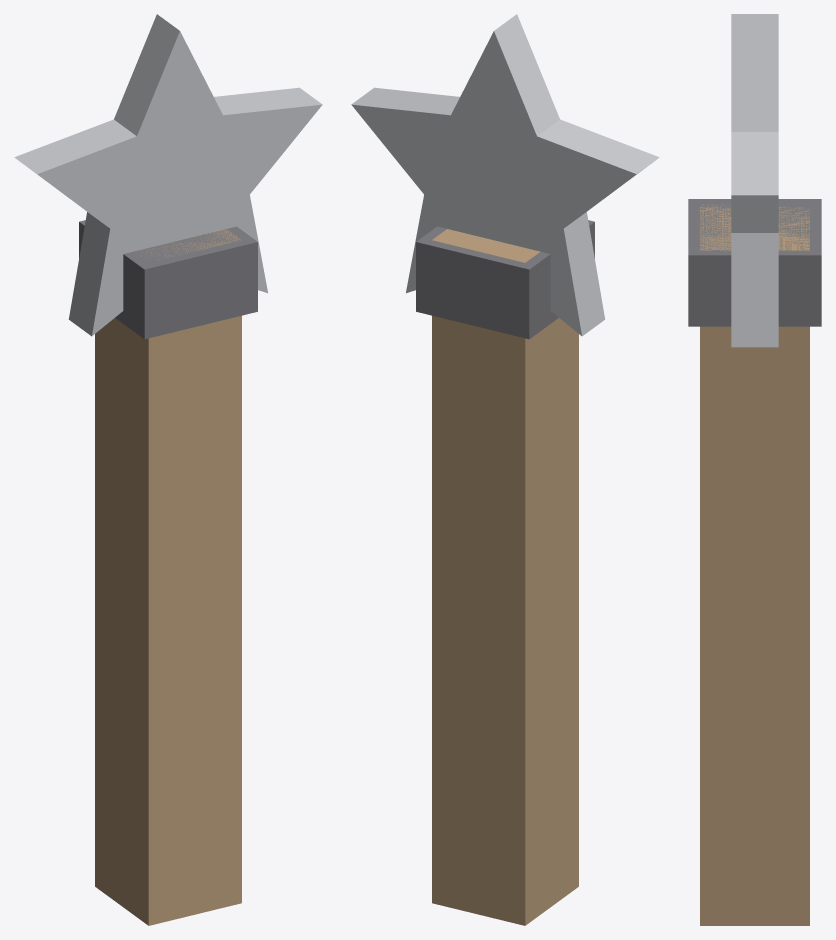
File: prop-dresser-star-gs1.fbx
The picture shows the model from 3 angles, left to right: view 1: azimuth 30°, elevation 25°; view 2: azimuth 150°, elevation 25°; view 3: azimuth 270°, elevation 25°; orthographic projection.
Visible parts, largest first — view 1: prop-dresser-star-gs1; view 2: prop-dresser-star-gs1; view 3: prop-dresser-star-gs1.
Boxes of the visible parts, x1,y1,x2,y2 form: prop-dresser-star-gs1: [14, 14, 322, 925]; prop-dresser-star-gs1: [351, 14, 659, 925]; prop-dresser-star-gs1: [688, 14, 821, 925].
Bounding box in the file's own units: 8.56 × 25 × 3.4.
